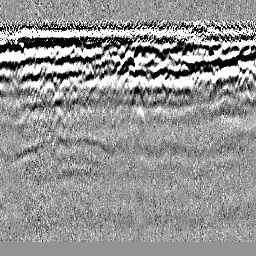cavity: (116, 49, 137, 78)
